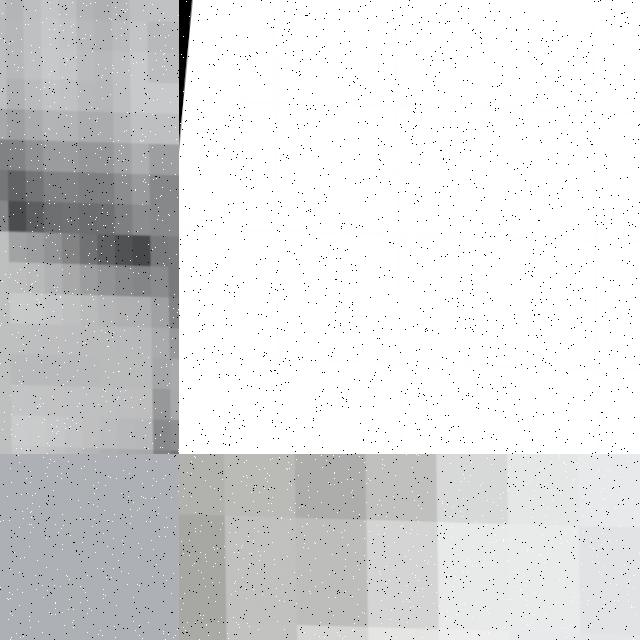drone: (179, 0, 640, 454), (179, 454, 640, 640), (0, 0, 179, 454)
